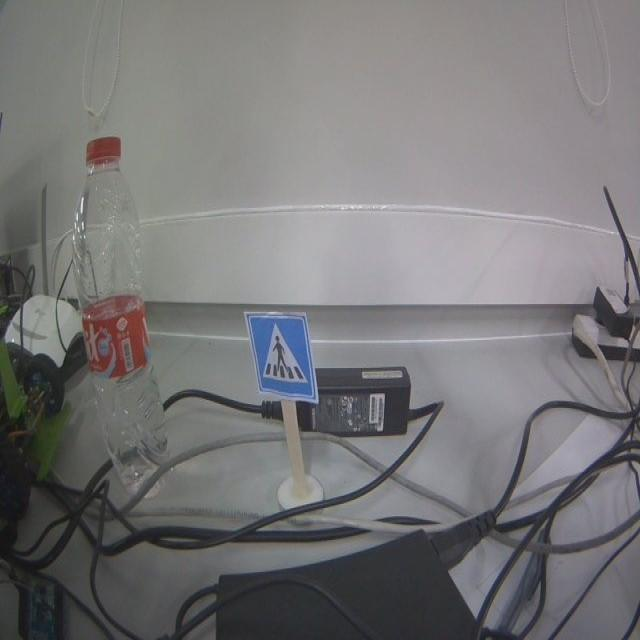Rambu Penyebrangan: (245, 309, 318, 403)
